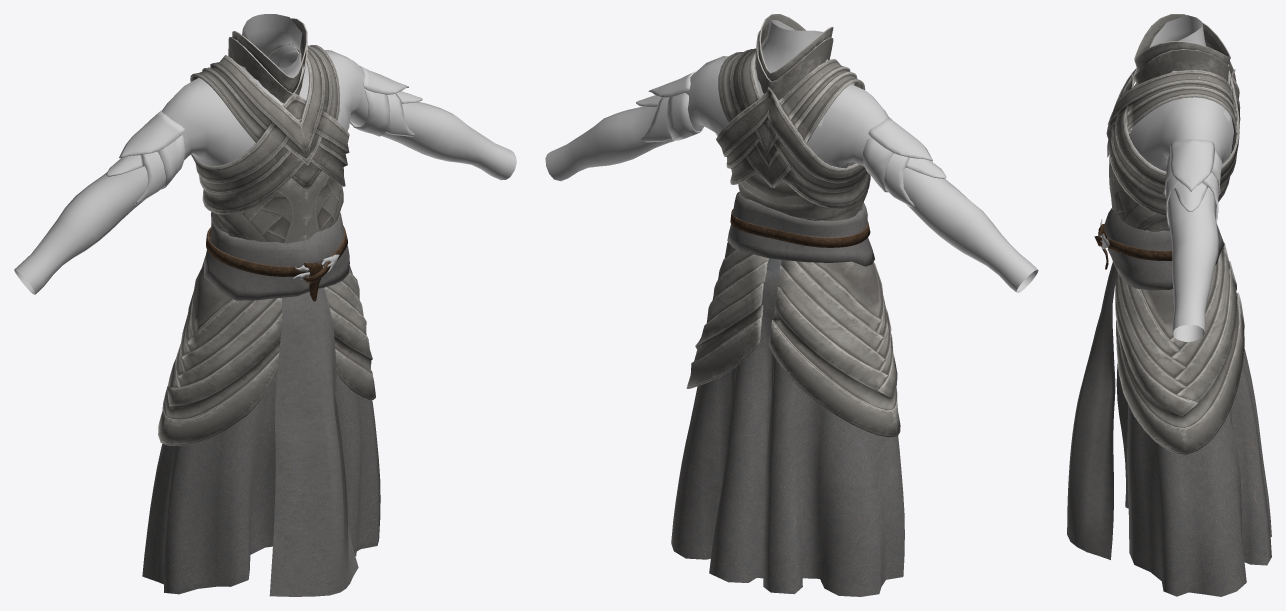
Rendered from rivendell_torso_heavy_tier2_silver.fbx.
3 renders of one model, left to right at view 1: azimuth 30°, elevation 25°; view 2: azimuth 150°, elevation 25°; view 3: azimuth 270°, elevation 25°, orthographic. The views are drawn at different scales.
Parts seen in each view (by area): view 1: rivendell_torso_heavy_tier2_silver.3, rivendell_torso_heavy_tier2_silver.0, rivendell_torso_heavy_tier2_silver.1, rivendell_torso_heavy_tier2_silver.4, rivendell_torso_heavy_tier2_silver.2, rivendell_torso_heavy_tier2_silver.5; view 2: rivendell_torso_heavy_tier2_silver.0, rivendell_torso_heavy_tier2_silver.2, rivendell_torso_heavy_tier2_silver.1, rivendell_torso_heavy_tier2_silver.4, rivendell_torso_heavy_tier2_silver.3, rivendell_torso_heavy_tier2_silver.5; view 3: rivendell_torso_heavy_tier2_silver.0, rivendell_torso_heavy_tier2_silver.2, rivendell_torso_heavy_tier2_silver.3, rivendell_torso_heavy_tier2_silver.1, rivendell_torso_heavy_tier2_silver.4, rivendell_torso_heavy_tier2_silver.5.
Part boxes in pixels (x1=…): rivendell_torso_heavy_tier2_silver.3: x1=204, y1=211, x2=358, y2=596; rivendell_torso_heavy_tier2_silver.0: x1=142, y1=369, x2=380, y2=594; rivendell_torso_heavy_tier2_silver.1: x1=190, y1=18, x2=349, y2=243; rivendell_torso_heavy_tier2_silver.4: x1=14, y1=14, x2=516, y2=294; rivendell_torso_heavy_tier2_silver.2: x1=158, y1=256, x2=375, y2=446; rivendell_torso_heavy_tier2_silver.5: x1=106, y1=65, x2=422, y2=204; rivendell_torso_heavy_tier2_silver.0: x1=671, y1=258, x2=904, y2=596; rivendell_torso_heavy_tier2_silver.2: x1=686, y1=242, x2=900, y2=437; rivendell_torso_heavy_tier2_silver.1: x1=716, y1=14, x2=870, y2=234; rivendell_torso_heavy_tier2_silver.4: x1=545, y1=19, x2=1038, y2=292; rivendell_torso_heavy_tier2_silver.3: x1=727, y1=191, x2=874, y2=266; rivendell_torso_heavy_tier2_silver.5: x1=636, y1=71, x2=946, y2=207; rivendell_torso_heavy_tier2_silver.0: x1=1116, y1=348, x2=1271, y2=596; rivendell_torso_heavy_tier2_silver.2: x1=1115, y1=242, x2=1244, y2=454; rivendell_torso_heavy_tier2_silver.3: x1=1067, y1=208, x2=1224, y2=559; rivendell_torso_heavy_tier2_silver.1: x1=1106, y1=14, x2=1240, y2=231; rivendell_torso_heavy_tier2_silver.4: x1=1129, y1=15, x2=1233, y2=341; rivendell_torso_heavy_tier2_silver.5: x1=1163, y1=139, x2=1222, y2=227.
Bounding box in the file's own units: 1.38 × 0.5129 × 1.46.
